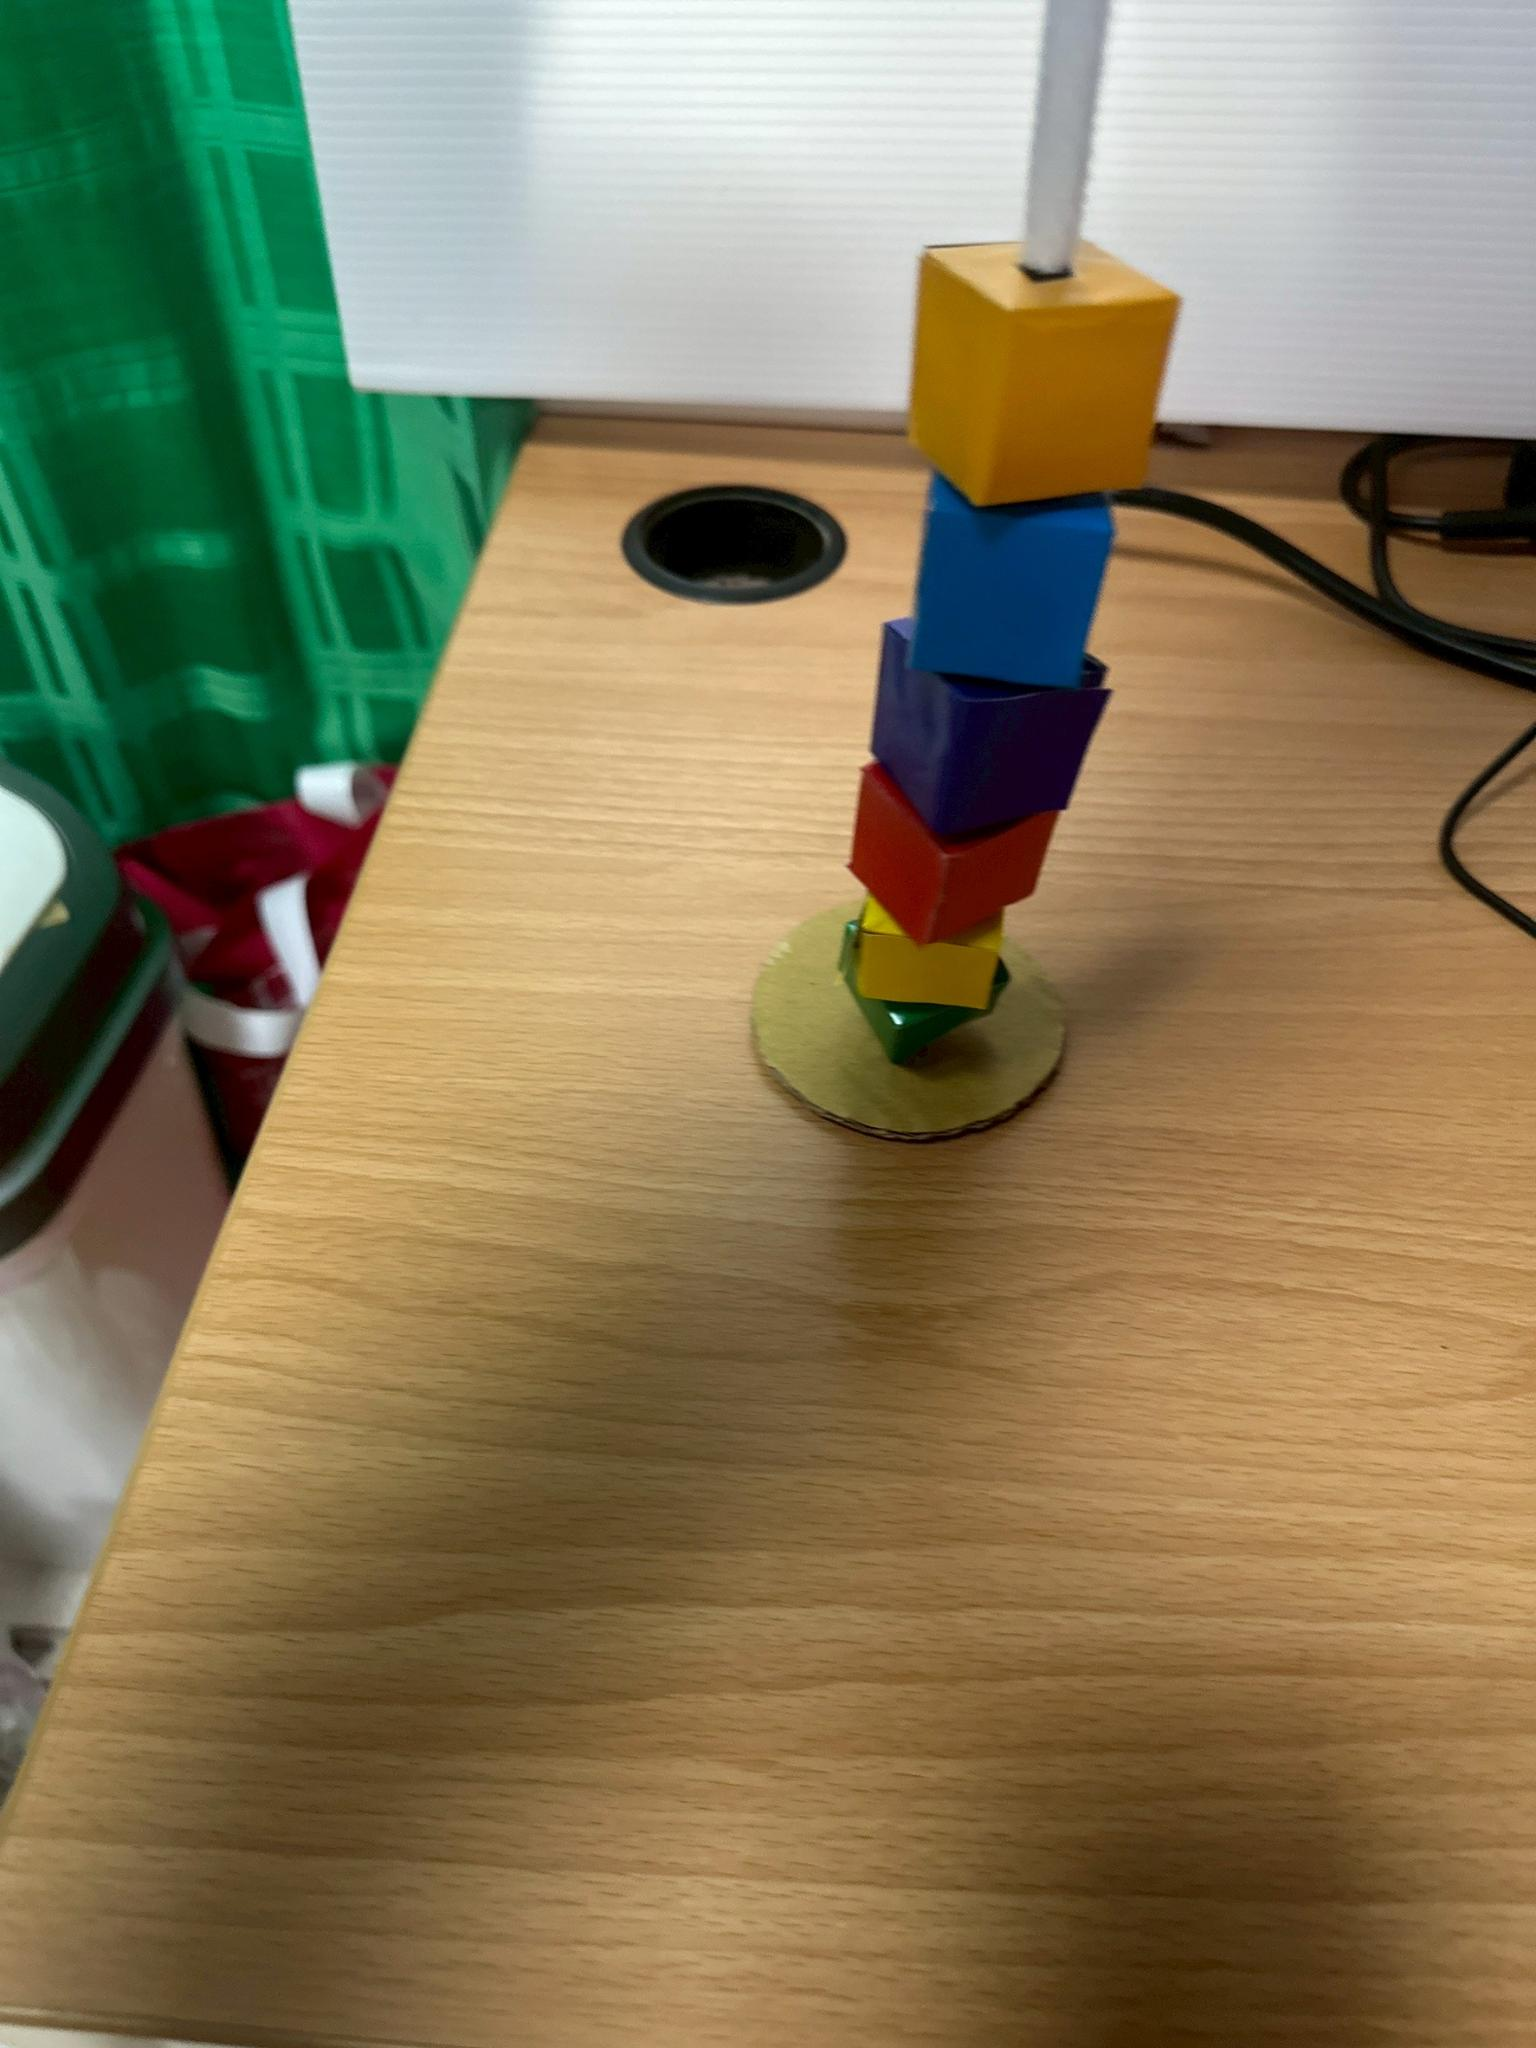base: (752, 903, 1065, 1140)
